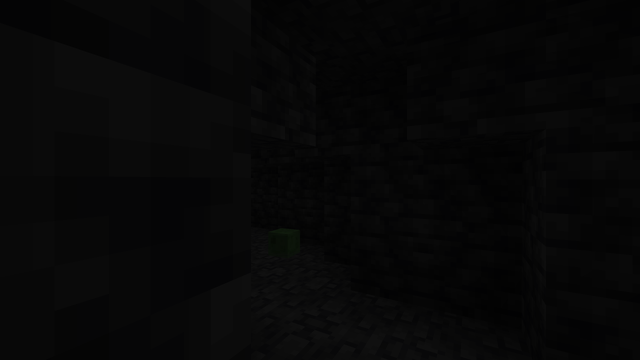slimes: (267, 227, 300, 258)
